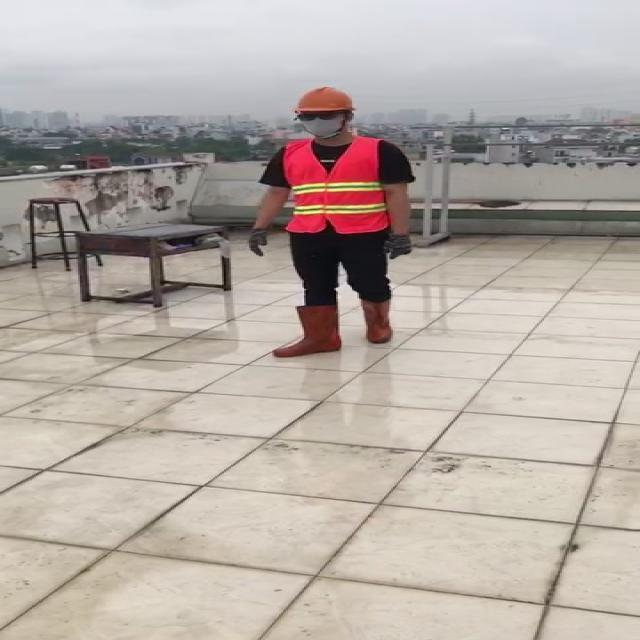gloves: (243, 224, 274, 262), (382, 232, 416, 260)
helmet: (290, 86, 360, 113)
safety_vest: (286, 134, 392, 238)
